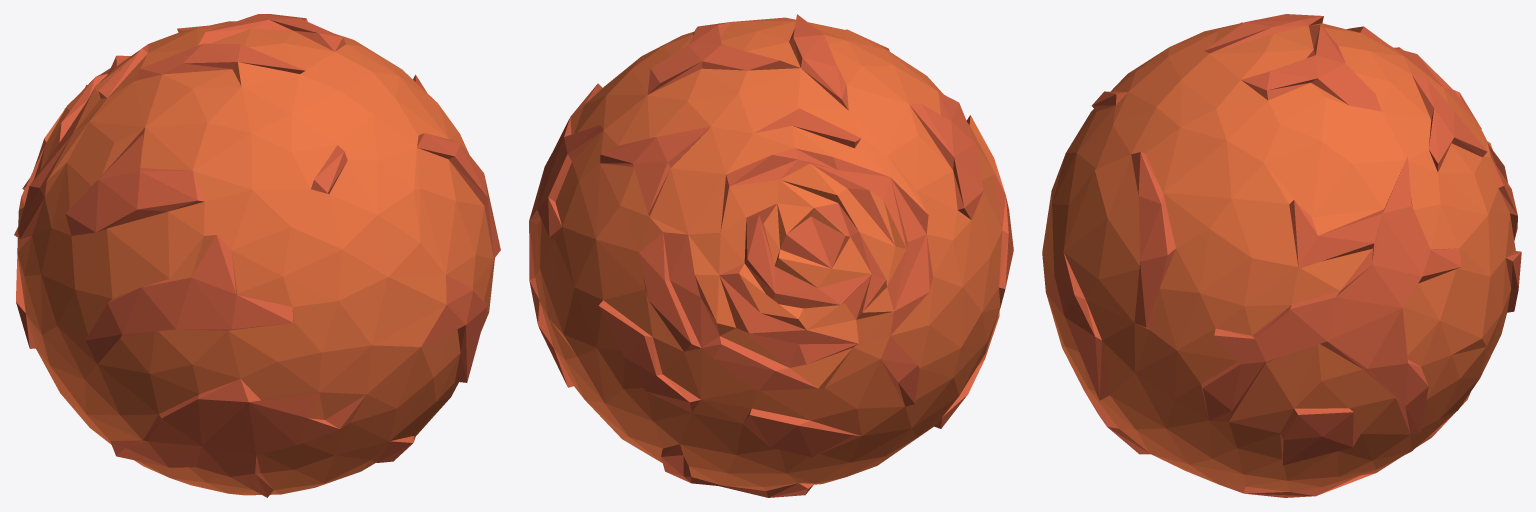
The model's file is Mars.obj.
3 views of the same model, side by side, from view 1: azimuth 30°, elevation 25°; view 2: azimuth 150°, elevation 25°; view 3: azimuth 270°, elevation 25° (orthographic).
Parts seen in each view (by area): view 1: Mars; view 2: Mars; view 3: Mars.
Boxes of the visible parts, x1,y1,x2,y2 form: Mars: [14, 14, 500, 497]; Mars: [529, 14, 1013, 497]; Mars: [1042, 14, 1521, 497].
Bounding box in the file's own units: 35.13 × 35.42 × 35.18.
Materials: 1 (1 with a texture image).
